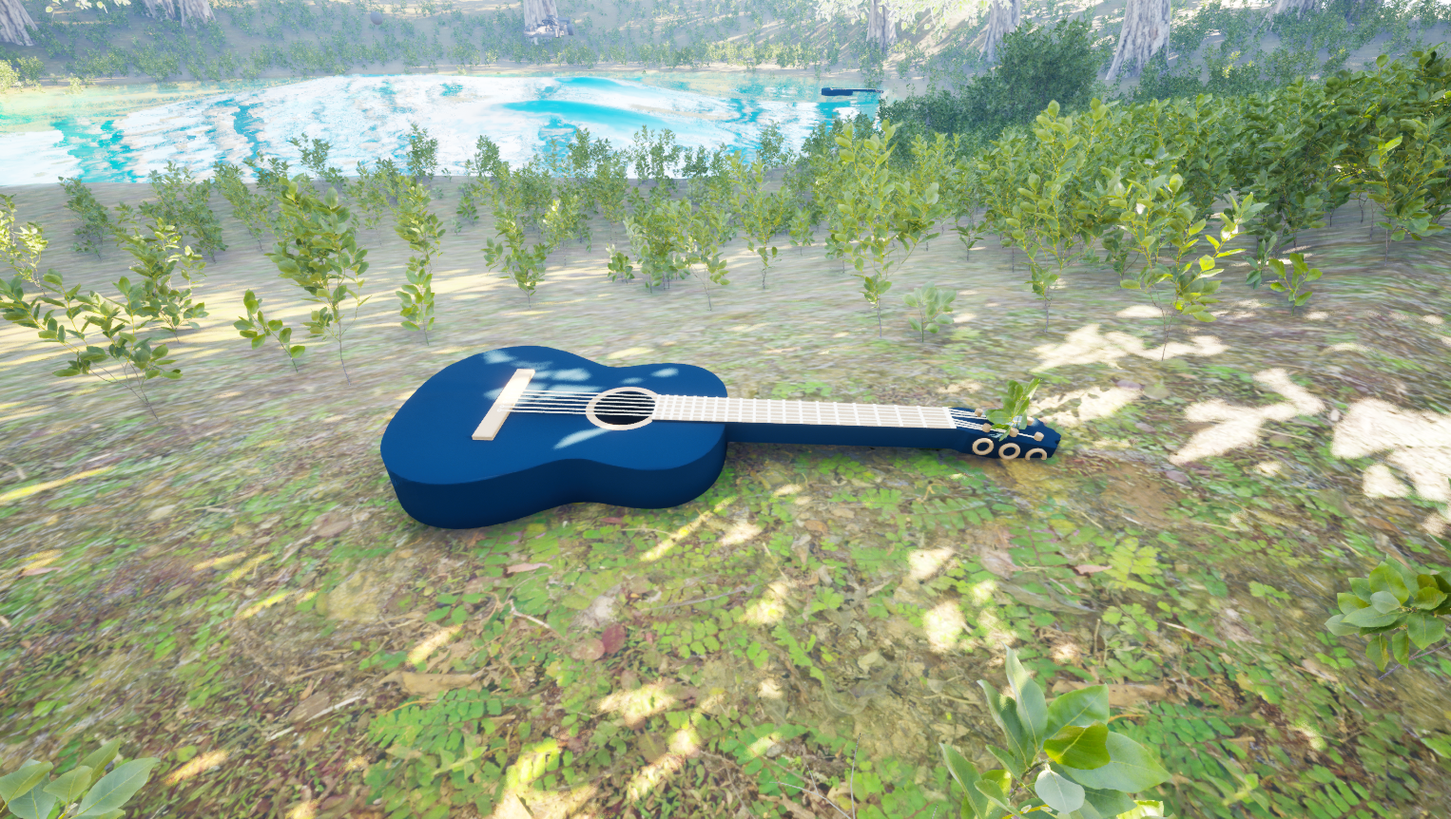Guitar: (333, 340, 1128, 557)
